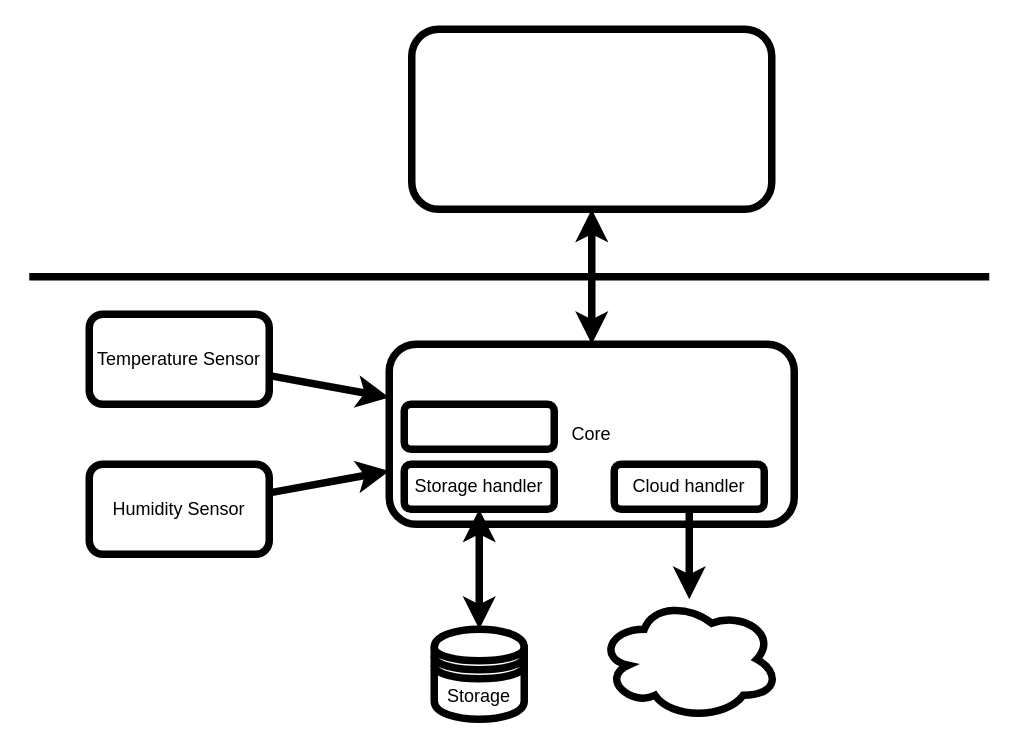
The diagram is 1019 pixels wide and 749 high, and some of its shapes have lost their labels. The box of each missing label's shape, as (x1, y1, x2, y2) in pixels:
Alarm: (400, 400, 557, 452)
Cloud Service: (595, 595, 782, 722)
Qt QML: (407, 25, 775, 212)
